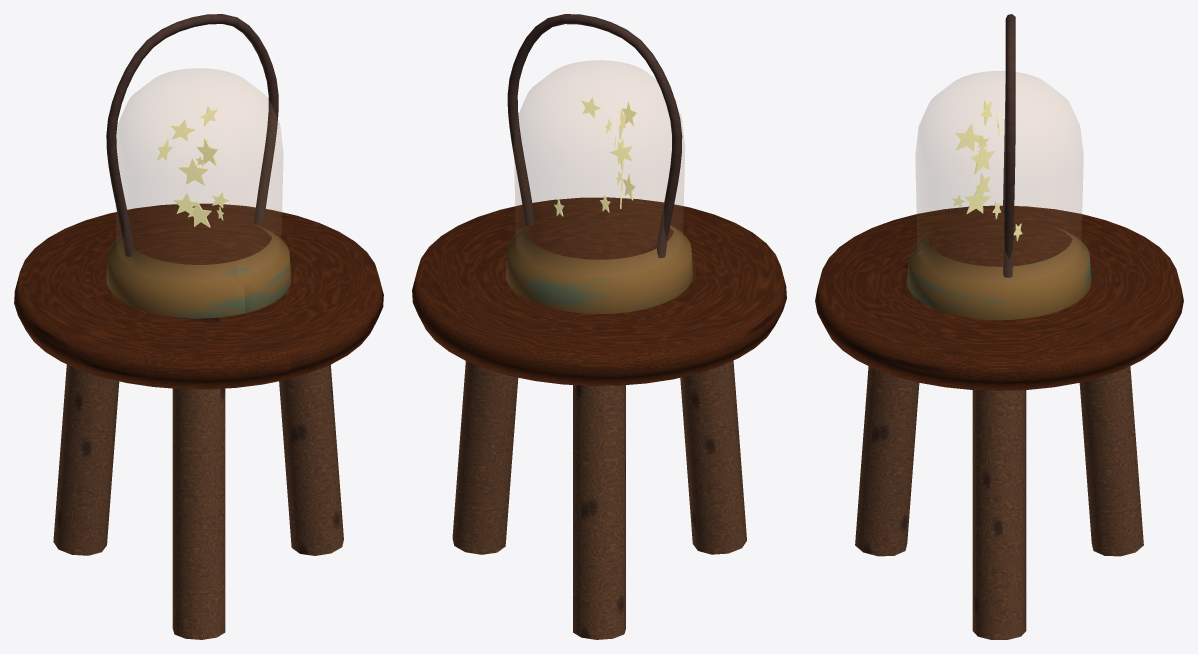
The model's file is star_lamp.glb.
The picture shows the model from 3 angles, left to right: view 1: azimuth 30°, elevation 25°; view 2: azimuth 150°, elevation 25°; view 3: azimuth 270°, elevation 25°; orthographic projection.
Parts seen in each view (by area): view 1: wood_stool, star_lamp; view 2: wood_stool, star_lamp; view 3: wood_stool, star_lamp.
Part boxes in pixels (<box>): wood_stool: <box>14,203,383,639</box>; star_lamp: <box>106,14,291,318</box>; wood_stool: <box>412,197,786,639</box>; star_lamp: <box>505,14,693,313</box>; wood_stool: <box>815,205,1183,639</box>; star_lamp: <box>907,14,1091,320</box>.
Size of the model in its own units: 0.648 by 1.07 by 0.648.
17 materials, 4 textured.
